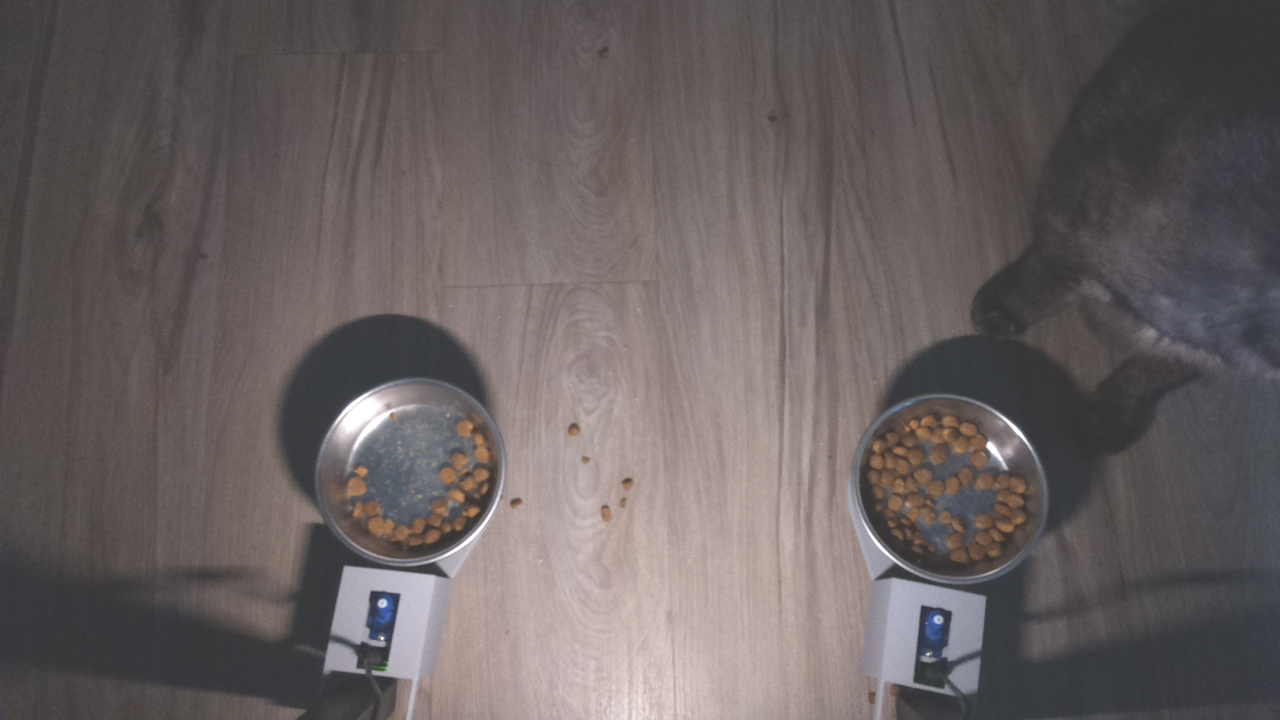open_bowl: (848, 387, 1052, 586), (311, 373, 509, 572)
